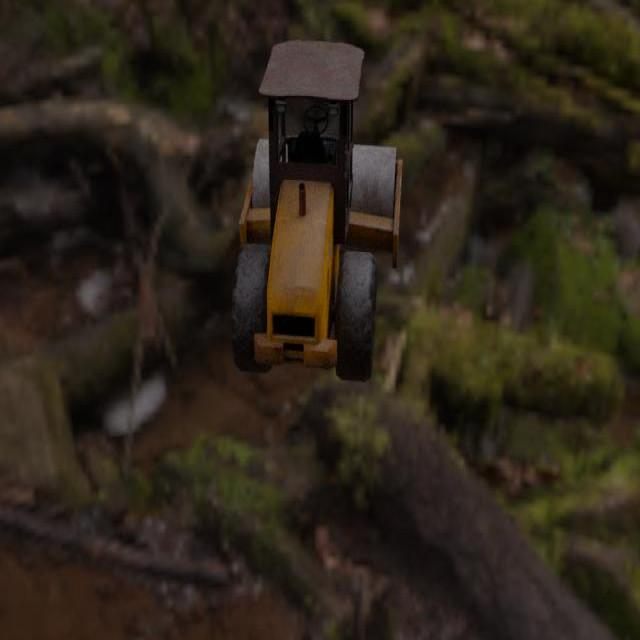Roller: (230, 39, 402, 382)
